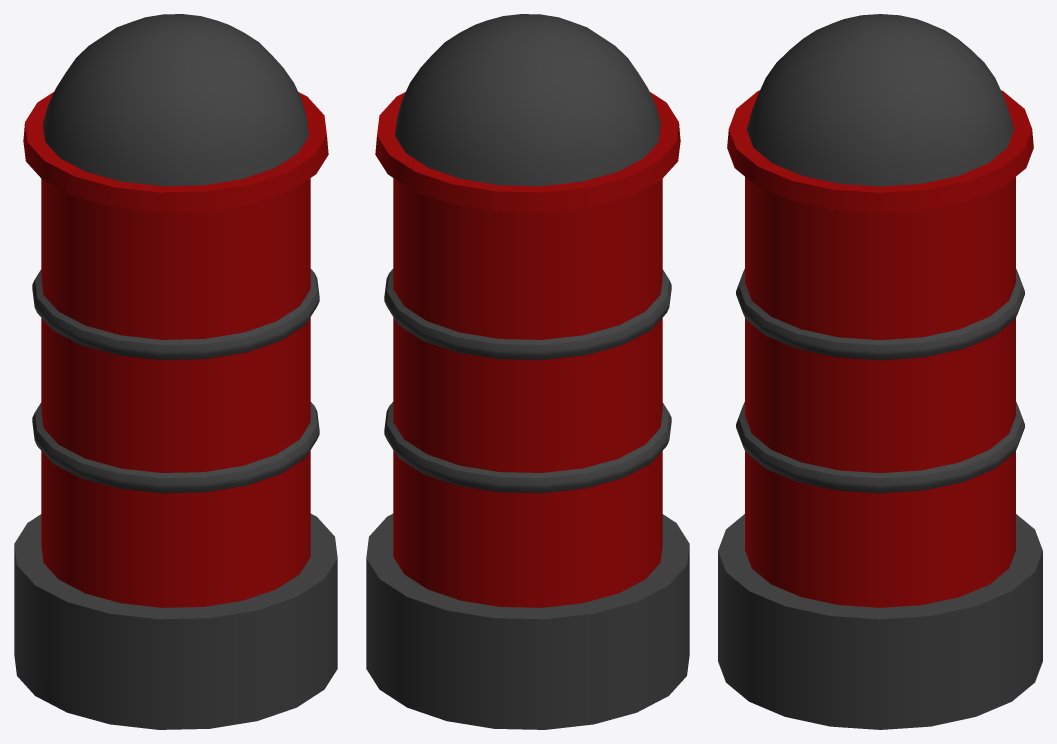
The model's file is 41 Latter_box.fbx.
3 views of the same model, side by side, from view 1: azimuth 30°, elevation 25°; view 2: azimuth 150°, elevation 25°; view 3: azimuth 270°, elevation 25° (orthographic).
Visible parts, largest first — view 1: Letter_box_2; view 2: Letter_box_2; view 3: Letter_box_2.
Part boxes in pixels (x1,y1,x2,y2): Letter_box_2: (14, 14, 337, 729); Letter_box_2: (366, 14, 689, 729); Letter_box_2: (718, 14, 1042, 729).
Size of the model in its own units: 18.19 by 39.21 by 18.19.
